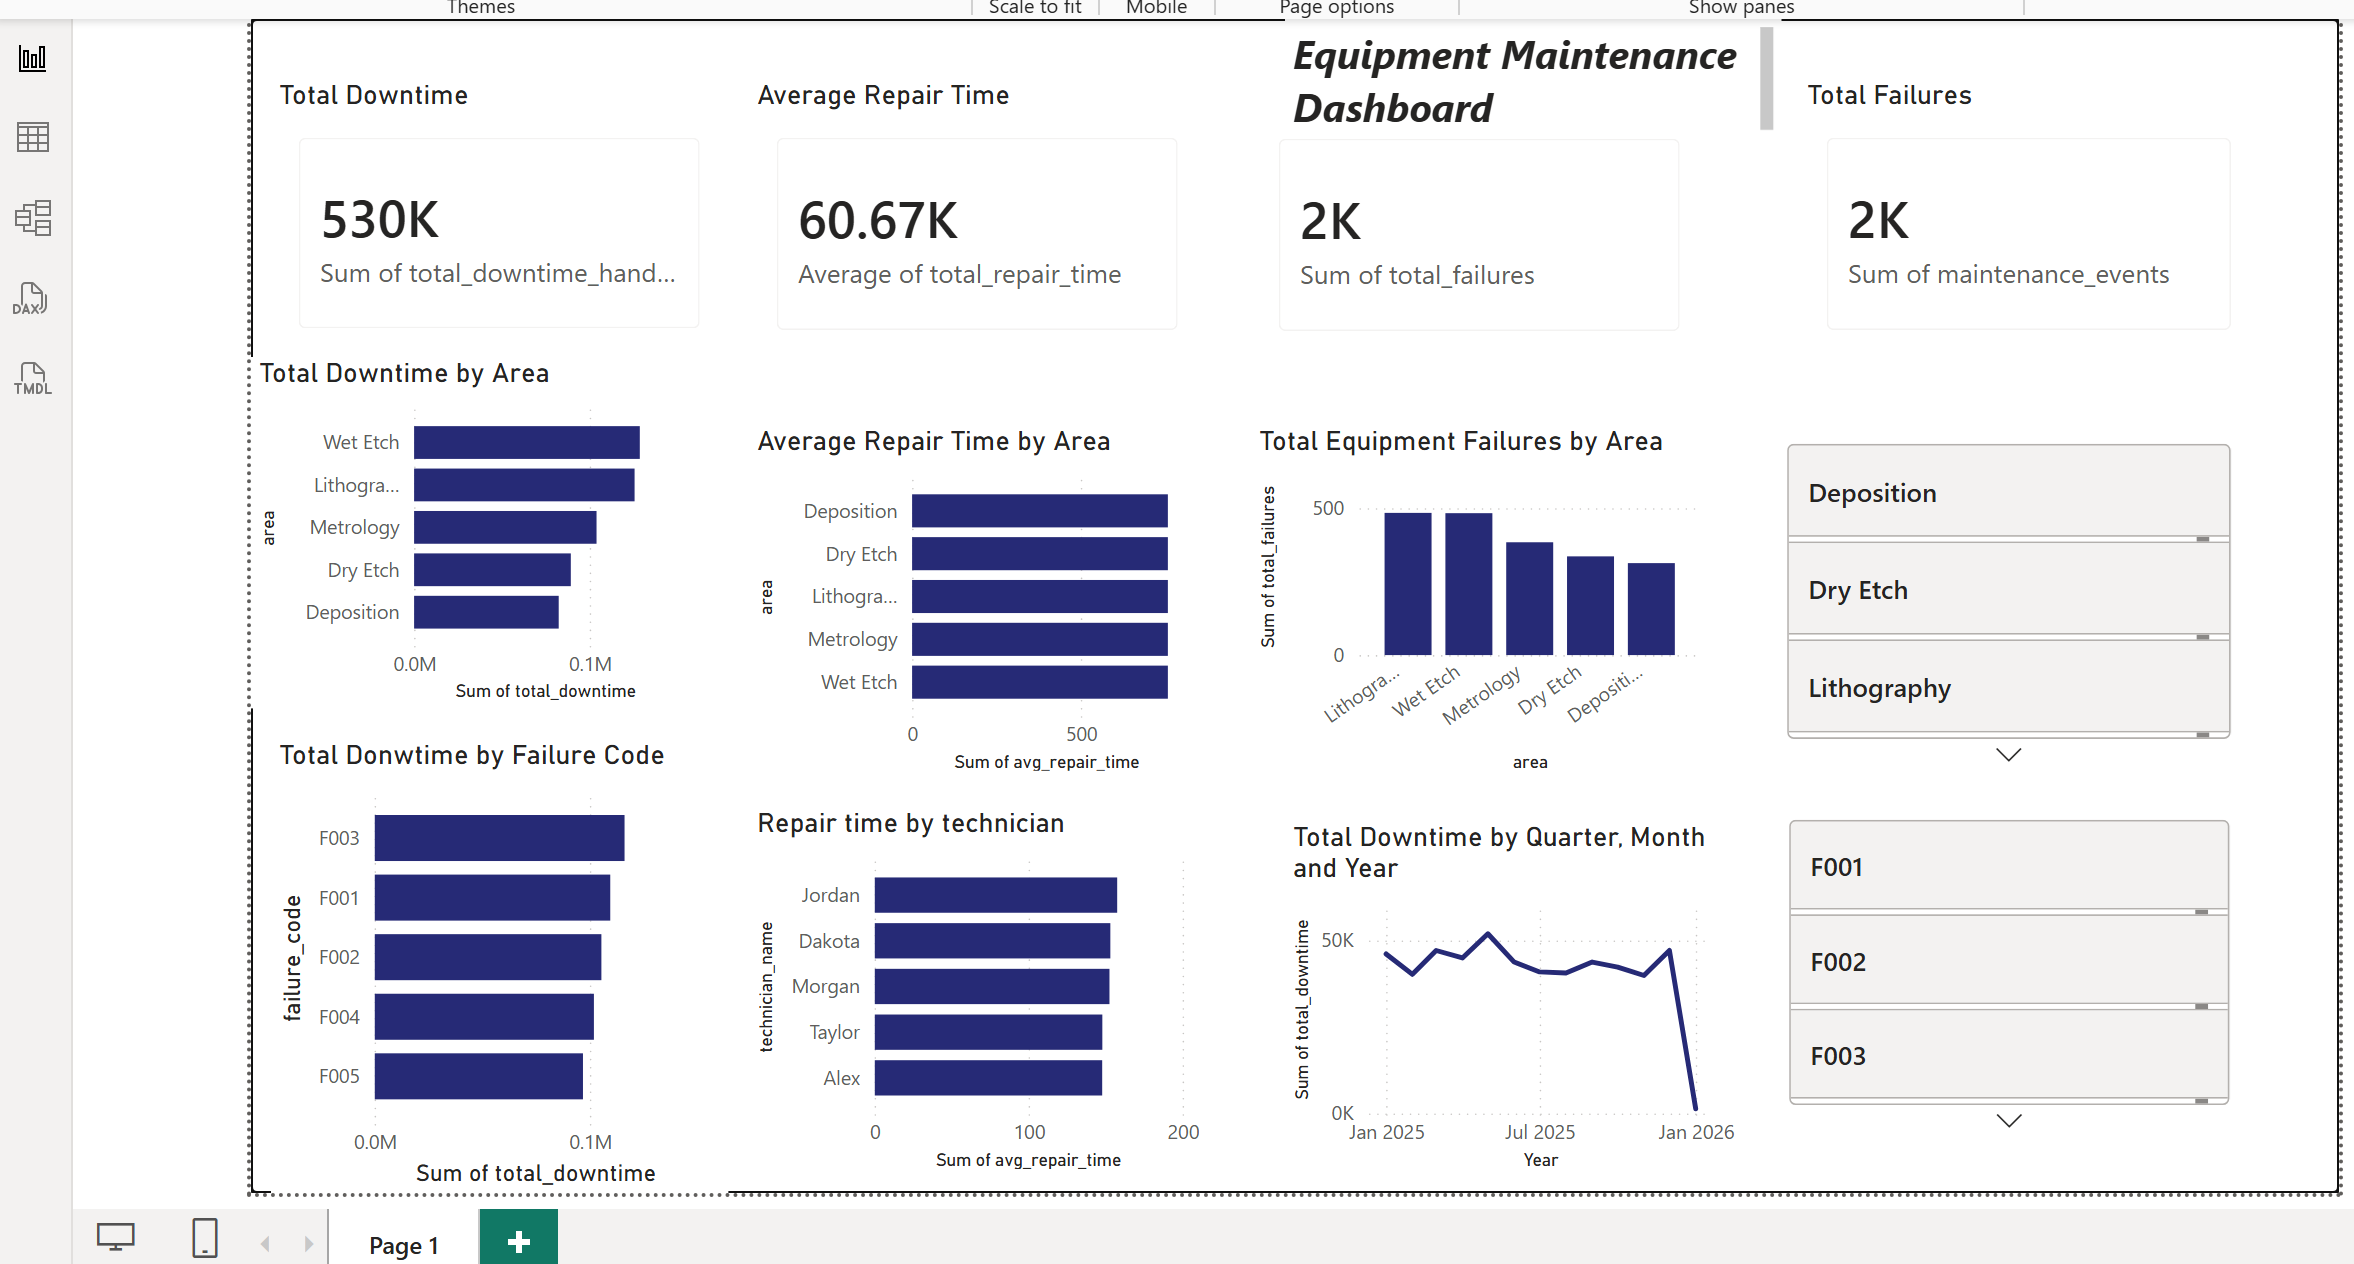

What the dashboard file says about the page in this screenshot:
{"tool":"powerbi","page":{"name":"Page 1","canvas":[1280,720],"ordinal":0},"visuals":[{"type":"clusteredBarChart","title":"Total Downtime by Area","fields":{"Category":["analytics area_performance.area"],"Y":["Sum(analytics equipment_downtime.total_downtime)"]},"box":[0,207.2,280.5,215.7],"z":0},{"type":"clusteredBarChart","title":"Average Repair Time by Area","fields":{"Category":["analytics area_performance.area"],"Y":["Sum(analytics failure_analysis.avg_repair_time)"]},"box":[305.9,249.5,280.5,217.1],"z":1000},{"type":"clusteredColumnChart","title":"Total Equipment Failures by Area","fields":{"Category":["analytics area_performance.area"],"Y":["Sum(analytics equipment_downtime.total_failures)"]},"box":[613.3,249,280.9,217.1],"z":2000},{"type":"lineChart","title":"Total Downtime by Quarter, Month and Year ","fields":{"Category":["analytics monthly_maintenance.month.Variation.Date Hierarchy.Year","analytics monthly_maintenance.month.Variation.Date Hierarchy.Quarter","analytics monthly_maintenance.month.Variation.Date Hierarchy.Month","analytics monthly_maintenance.month.Variation.Date Hierarchy.Day"],"Y":["Sum(analytics monthly_maintenance.total_downtime)"]},"box":[634.1,491.9,280.9,218.3],"z":3000},{"type":"clusteredBarChart","title":"Total Donwtime by Failure Code","fields":{"Category":["analytics failure_analysis.failure_code"],"Y":["Sum(analytics failure_analysis.total_downtime)"]},"box":[12.7,441.2,280.5,279.1],"z":4000},{"type":"clusteredBarChart","title":"Repair time by technician","fields":{"Category":["analytics technician_workload.technician_name"],"Y":["Sum(analytics technician_performance.avg_repair_time)"]},"box":[305.4,483.3,280.9,226.9],"z":5000},{"type":"cardVisual","fields":{"Rows":["analytics failure_analysis.failure_code"]},"box":[938.3,466.1,280.9,225.7],"z":6000},{"type":"cardVisual","title":"Total Downtime","fields":{"Data":["Sum(analytics technician_performance.total_downtime_handled)"]},"box":[12.7,36.7,280.5,170.6],"z":7000},{"type":"cardVisual","title":"Average Repair Time","fields":{"Data":["Avg(analytics technician_performance.total_repair_time)"]},"box":[305.4,36.8,280.9,171.7],"z":8000},{"type":"cardVisual","fields":{"Data":["Sum(analytics equipment_downtime.total_failures)"]},"box":[613.3,56.4,280.9,152.1],"z":9000},{"type":"cardVisual","fields":{"Rows":["analytics equipment_downtime.area"]},"box":[937.1,235.5,282.1,231.8],"z":10000},{"type":"textbox","box":[634.4,0,304.5,73.3],"z":10001},{"type":"cardVisual","title":"Total Failures","fields":{"Data":["Sum(analytics monthly_maintenance.maintenance_events)"]},"box":[949.4,36.8,282.1,171.7],"z":10002}]}

Visuals, with their boxes on the page's 1280x720 design canvas (x1, y1, x2, y2). These are canvas units, not pixel positions in the 2354x1264 screenshot, which may show the page scaled, cropped or inside an application window:
"Total Downtime by Area" clusteredBarChart: Rect(0, 207, 280, 423)
"Average Repair Time by Area" clusteredBarChart: Rect(306, 250, 586, 467)
"Total Equipment Failures by Area" clusteredColumnChart: Rect(613, 249, 894, 466)
"Total Downtime by Quarter, Month and Year " lineChart: Rect(634, 492, 915, 710)
"Total Donwtime by Failure Code" clusteredBarChart: Rect(13, 441, 293, 720)
"Repair time by technician" clusteredBarChart: Rect(305, 483, 586, 710)
cardVisual - analytics failure_analysis.failure_code: Rect(938, 466, 1219, 692)
"Total Downtime" cardVisual: Rect(13, 37, 293, 207)
"Average Repair Time" cardVisual: Rect(305, 37, 586, 208)
cardVisual - Sum(analytics equipment_downtime.total_failures): Rect(613, 56, 894, 208)
cardVisual - analytics equipment_downtime.area: Rect(937, 236, 1219, 467)
textbox: Rect(634, 0, 939, 73)
"Total Failures" cardVisual: Rect(949, 37, 1232, 208)
